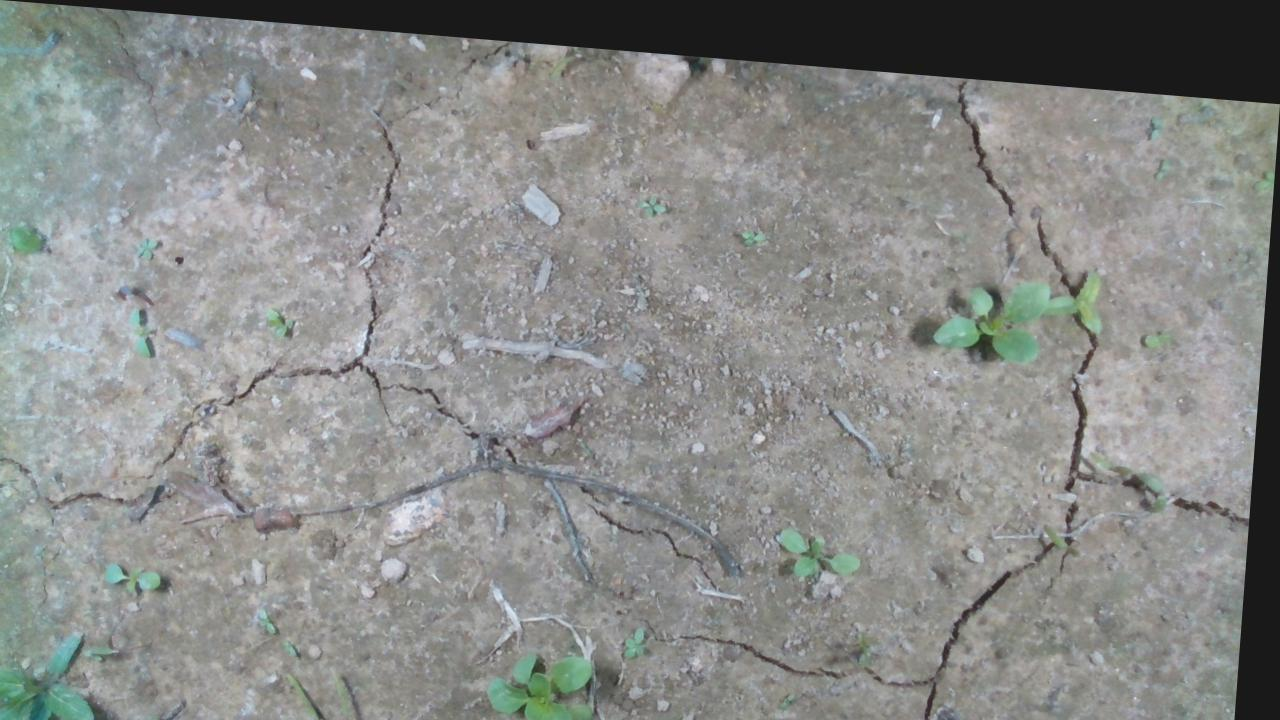weed: (777, 506, 874, 574), (1039, 504, 1110, 550), (122, 302, 181, 357), (104, 558, 185, 587), (257, 299, 302, 340), (735, 211, 792, 240), (627, 616, 675, 647), (626, 182, 672, 210), (132, 226, 167, 260), (1134, 296, 1178, 322), (789, 676, 832, 701), (259, 612, 295, 632)
